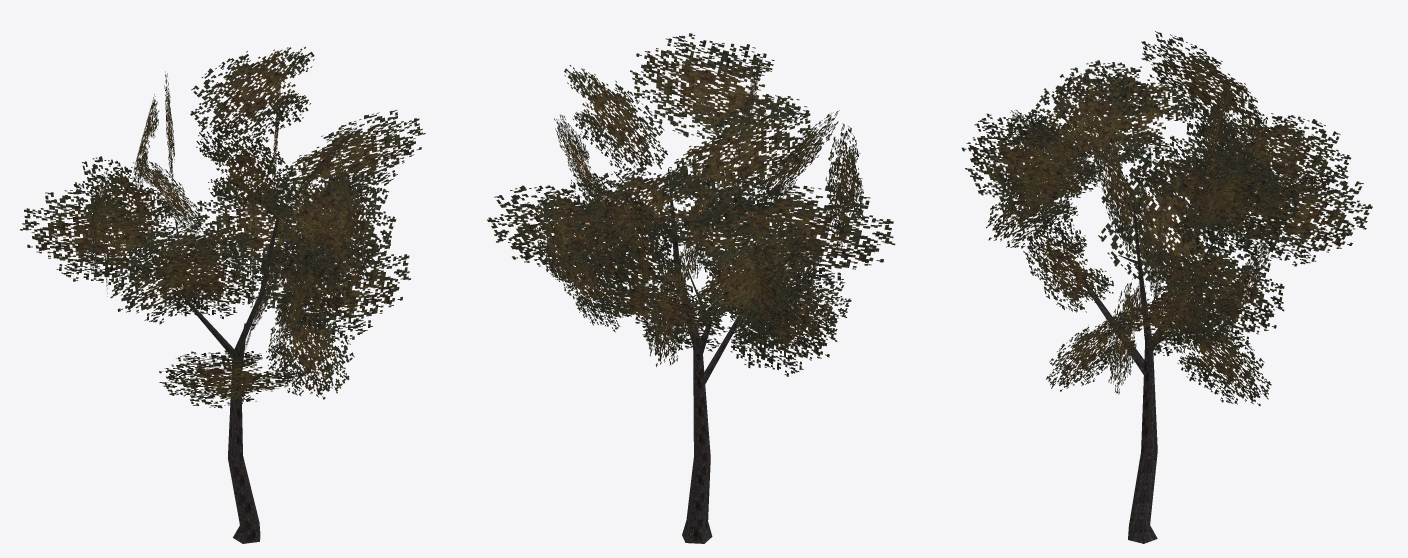
Rendered from stage-metr-p5-3.glb.
3 renders of one model, left to right at view 1: azimuth 30°, elevation 25°; view 2: azimuth 150°, elevation 25°; view 3: azimuth 270°, elevation 25°, orthographic. The views are drawn at different scales.
Size of the model in its own units: 11.44 by 14.36 by 11.85.
2 materials, 2 textured.
